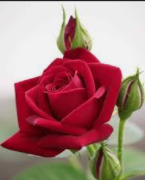RedRose: (0, 48, 121, 156)
